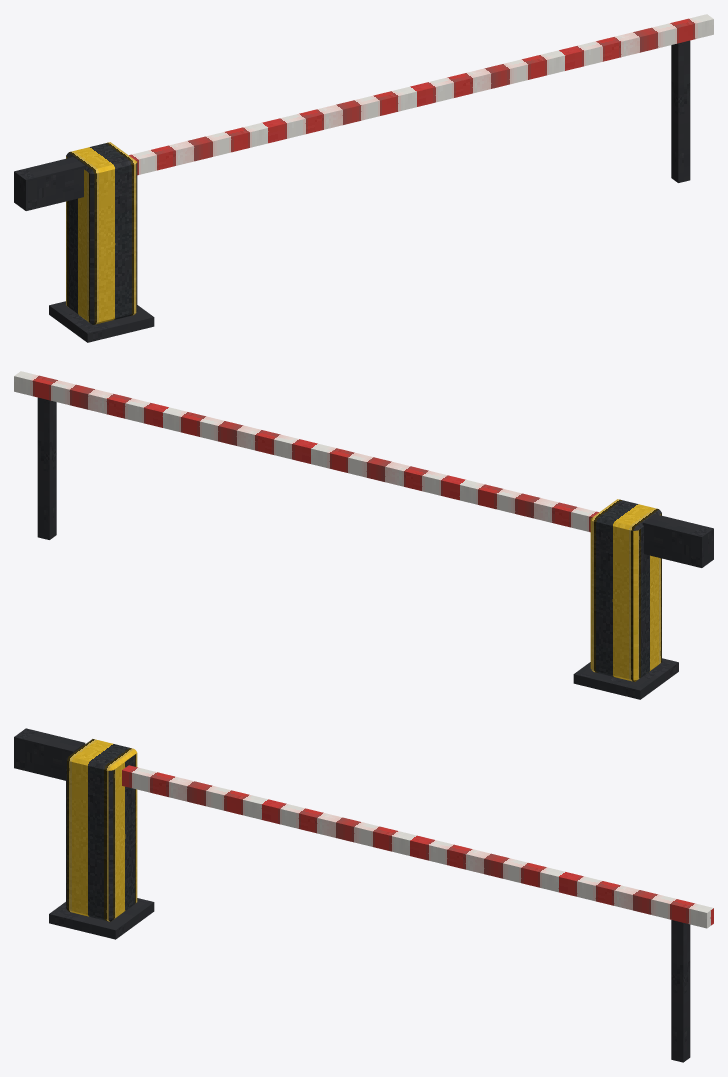
The picture shows the model from 3 angles, top to bottom: view 1: azimuth 30°, elevation 25°; view 2: azimuth 150°, elevation 25°; view 3: azimuth 330°, elevation 25°; orthographic projection.
Visible parts, largest first — view 1: Decor_parking_barrier; view 2: Decor_parking_barrier; view 3: Decor_parking_barrier.
Boxes of the visible parts, x1=… form: Decor_parking_barrier: x1=14, y1=14, x2=713, y2=342; Decor_parking_barrier: x1=14, y1=371, x2=713, y2=699; Decor_parking_barrier: x1=14, y1=728, x2=713, y2=1062.
Bounding box in the file's own units: 4.65 × 1.06 × 0.45.
Materials: 3 (3 with a texture image).
